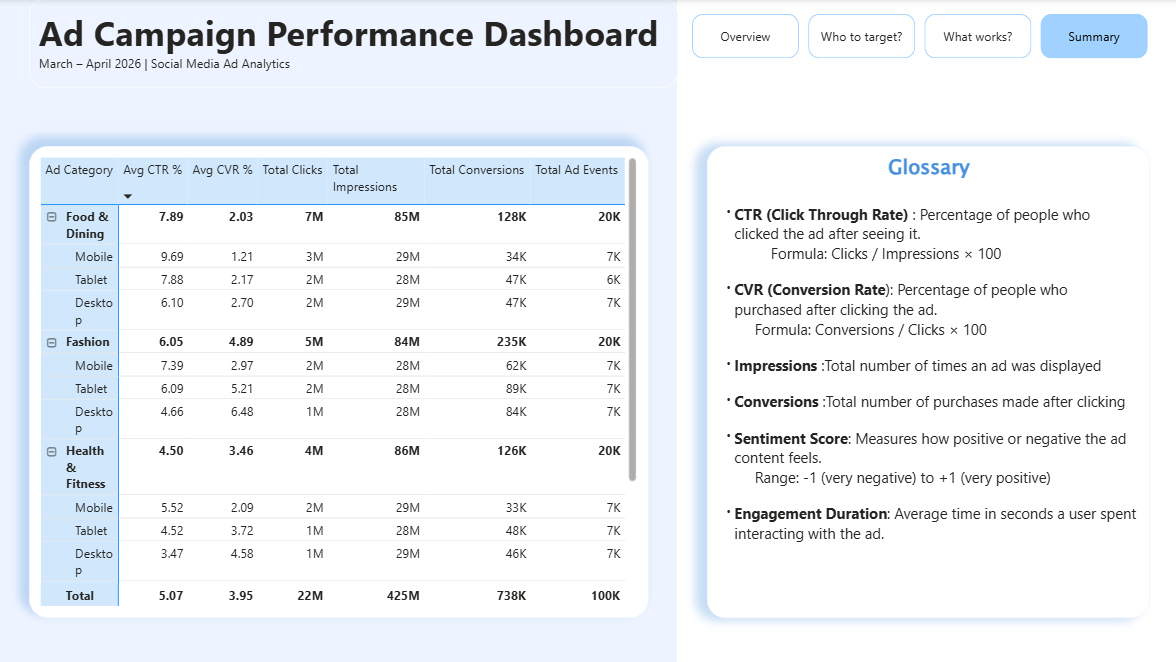

This screenshot's page, from the dashboard's own definition file:
{"tool":"powerbi","page":{"name":"Summary","canvas":[1280,720],"ordinal":3},"visuals":[{"type":"textbox","box":[736,0,544,720],"z":0},{"type":"pivotTable","fields":{"Rows":["vw_category_device1.ad_category","vw_category_device1.device_type"],"Values":["Avg(vw_category_device1.ctr_pct)","Avg(vw_category_device1.cvr_pct)","Sum(vw_category_device1.total_clicks)","Sum(vw_category_device1.total_impressions)","Sum(vw_category_device1.total_conversions)","Sum(vw_category_device1.total_ad_events)"]},"box":[32,160,672,512],"z":1000},{"type":"textbox","title":"Glossary","box":[768,160,480,512],"z":2000},{"type":"textbox","box":[32,0,704,96],"z":3000},{"type":"pageNavigator","box":[752,16,496,48],"z":4000}]}

Visuals, with their boxes in screenshot pixels (x1, y1, x2, y2), scaled from the page's 1280x720 canvas onto the 1176x662 screenshot:
textbox: BBox(676, 0, 1175, 661)
pivotTable - vw_category_device1.ad_category x vw_category_device1.device_type: BBox(29, 147, 647, 618)
"Glossary" textbox: BBox(706, 147, 1147, 618)
textbox: BBox(29, 0, 676, 88)
pageNavigator: BBox(691, 15, 1147, 59)
